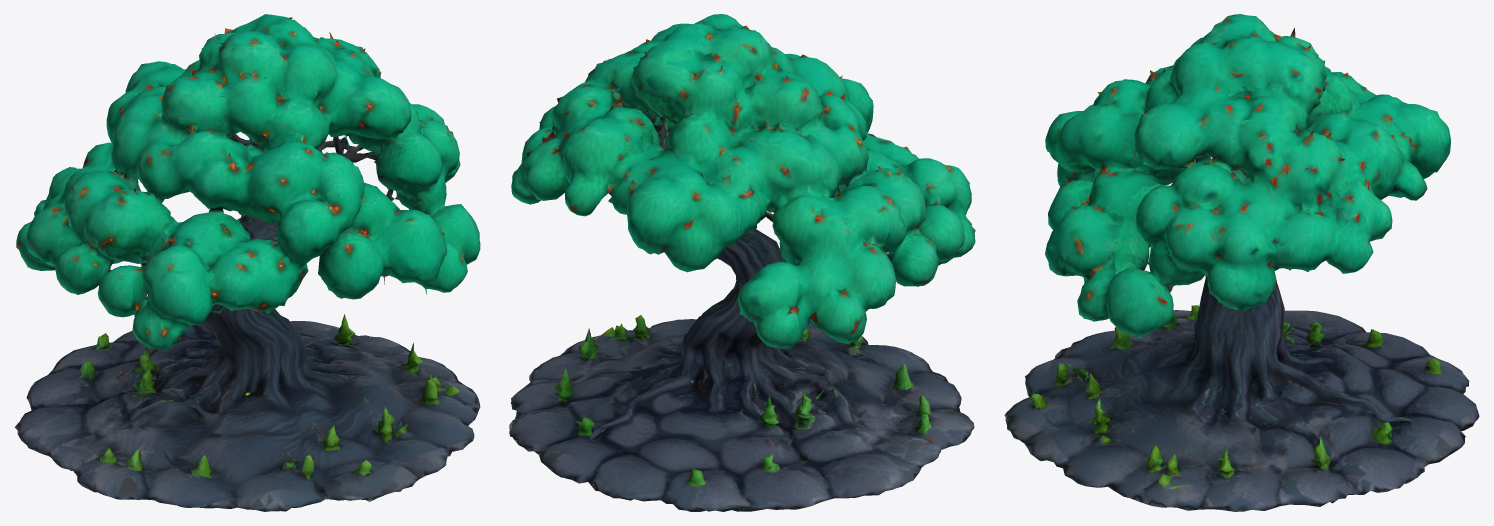
File: the_mystical_tree_with_glowing_leaves.glb
3 views of the same model, side by side, from view 1: azimuth 30°, elevation 25°; view 2: azimuth 150°, elevation 25°; view 3: azimuth 270°, elevation 25° (orthographic). The views are drawn at different scales.
Bounding box in the file's own units: 1.88 × 1.72 × 1.88.
Materials: 1 (1 with a texture image).
